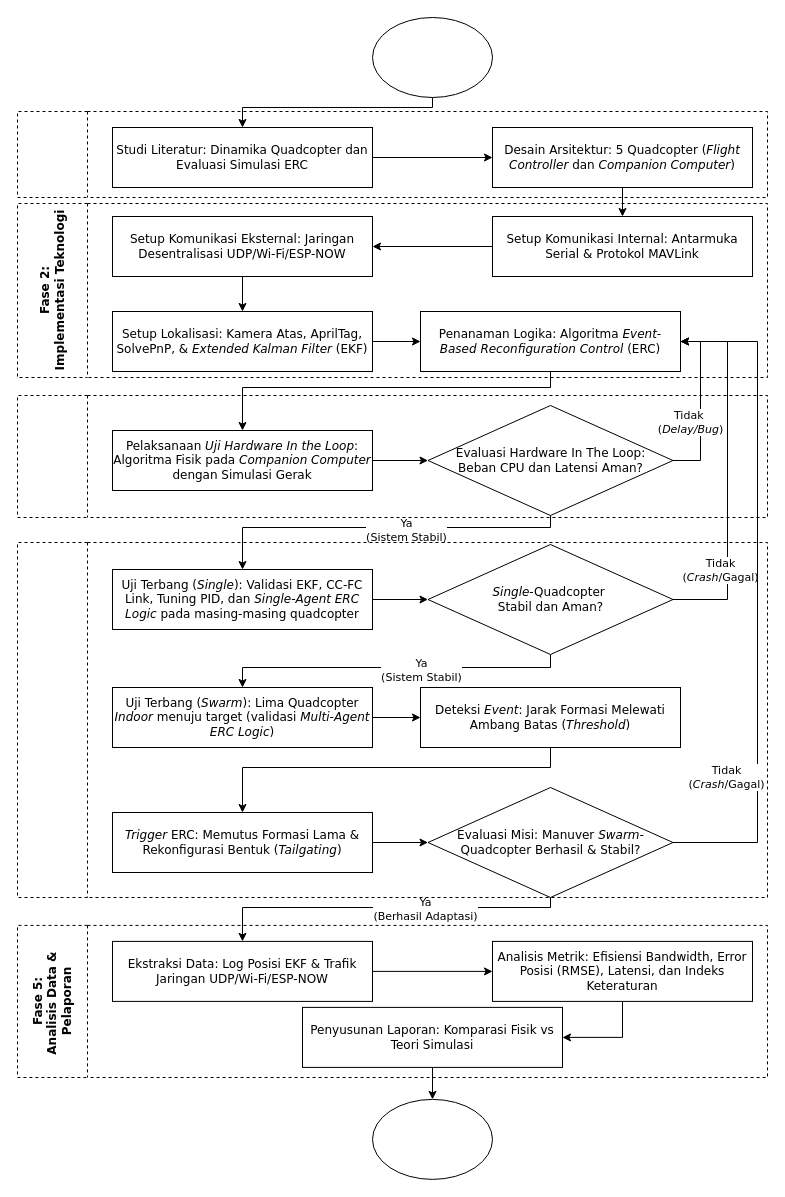
Image size: 785x1197. Some labels were removed from this diagram. Here are the shapes that lost their labels. From the top down, the centre of each, then its label:
the point at 432,57: Mulai
the point at 392,154: Fase 1: Studi & Desain Arsitektur
the point at 392,456: Fase 3: Pengujian Hardware In The Loop
the point at 392,720: Fase 4: Uji Terbang Eksperimen
the point at 432,1138: Selesai
